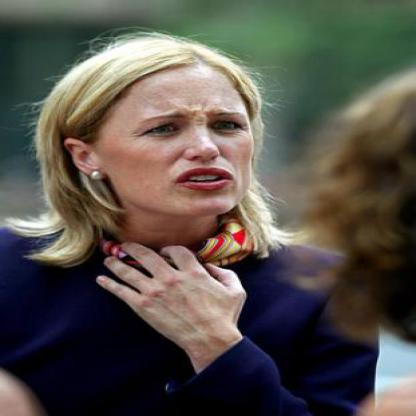face: (94, 42, 270, 223)
